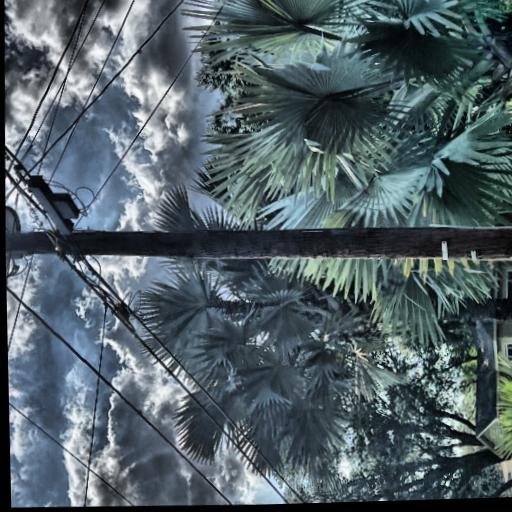pole: (90, 0, 145, 507)
street light: (3, 34, 118, 155)
transformer: (107, 37, 159, 141)
